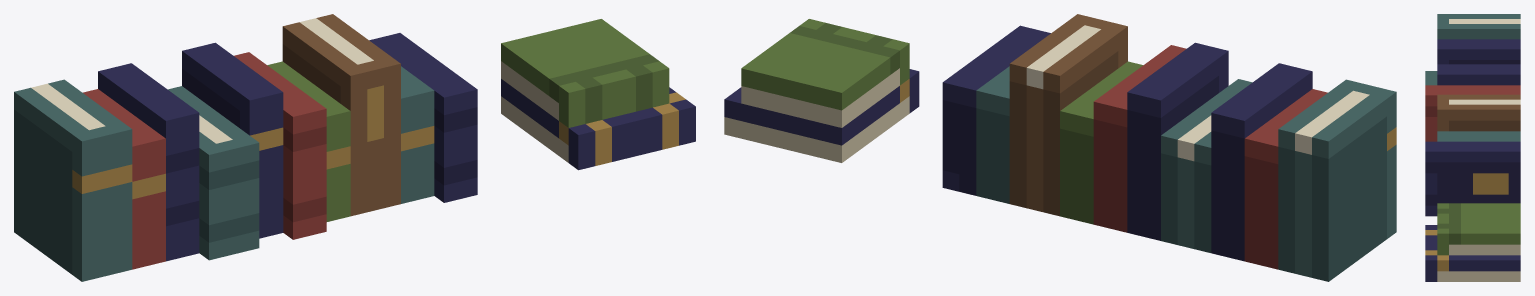
File: Shelf_Books_Lower.fbx
3 views of the same model, side by side, from view 1: azimuth 30°, elevation 25°; view 2: azimuth 150°, elevation 25°; view 3: azimuth 270°, elevation 25° (orthographic). The views are drawn at different scales.
Visible parts, largest first — view 1: Shelf_Books_Lower; view 2: Shelf_Books_Lower; view 3: Shelf_Books_Lower.
Part boxes in pixels (bbox=[...]): Shelf_Books_Lower: bbox=[14, 14, 695, 281]; Shelf_Books_Lower: bbox=[724, 14, 1396, 281]; Shelf_Books_Lower: bbox=[1425, 14, 1520, 281].
Size of the model in its own units: 1.2 by 0.2667 by 0.2667.
Materials: 1 (1 with a texture image).
